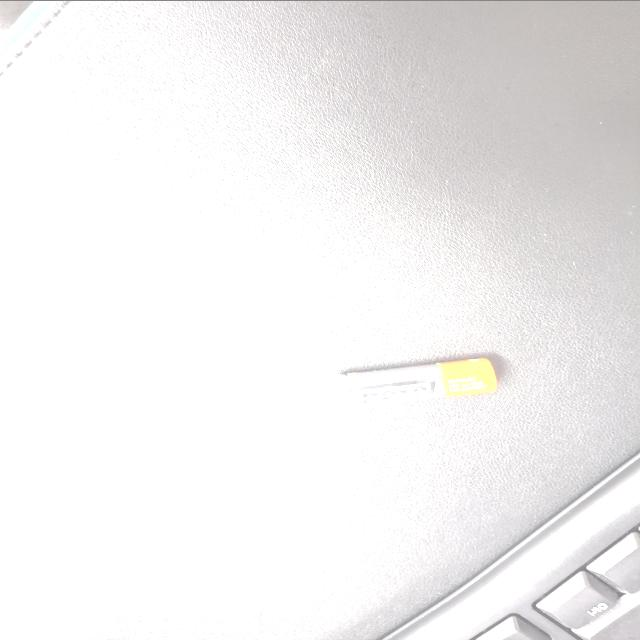AA: (311, 410, 377, 532)
